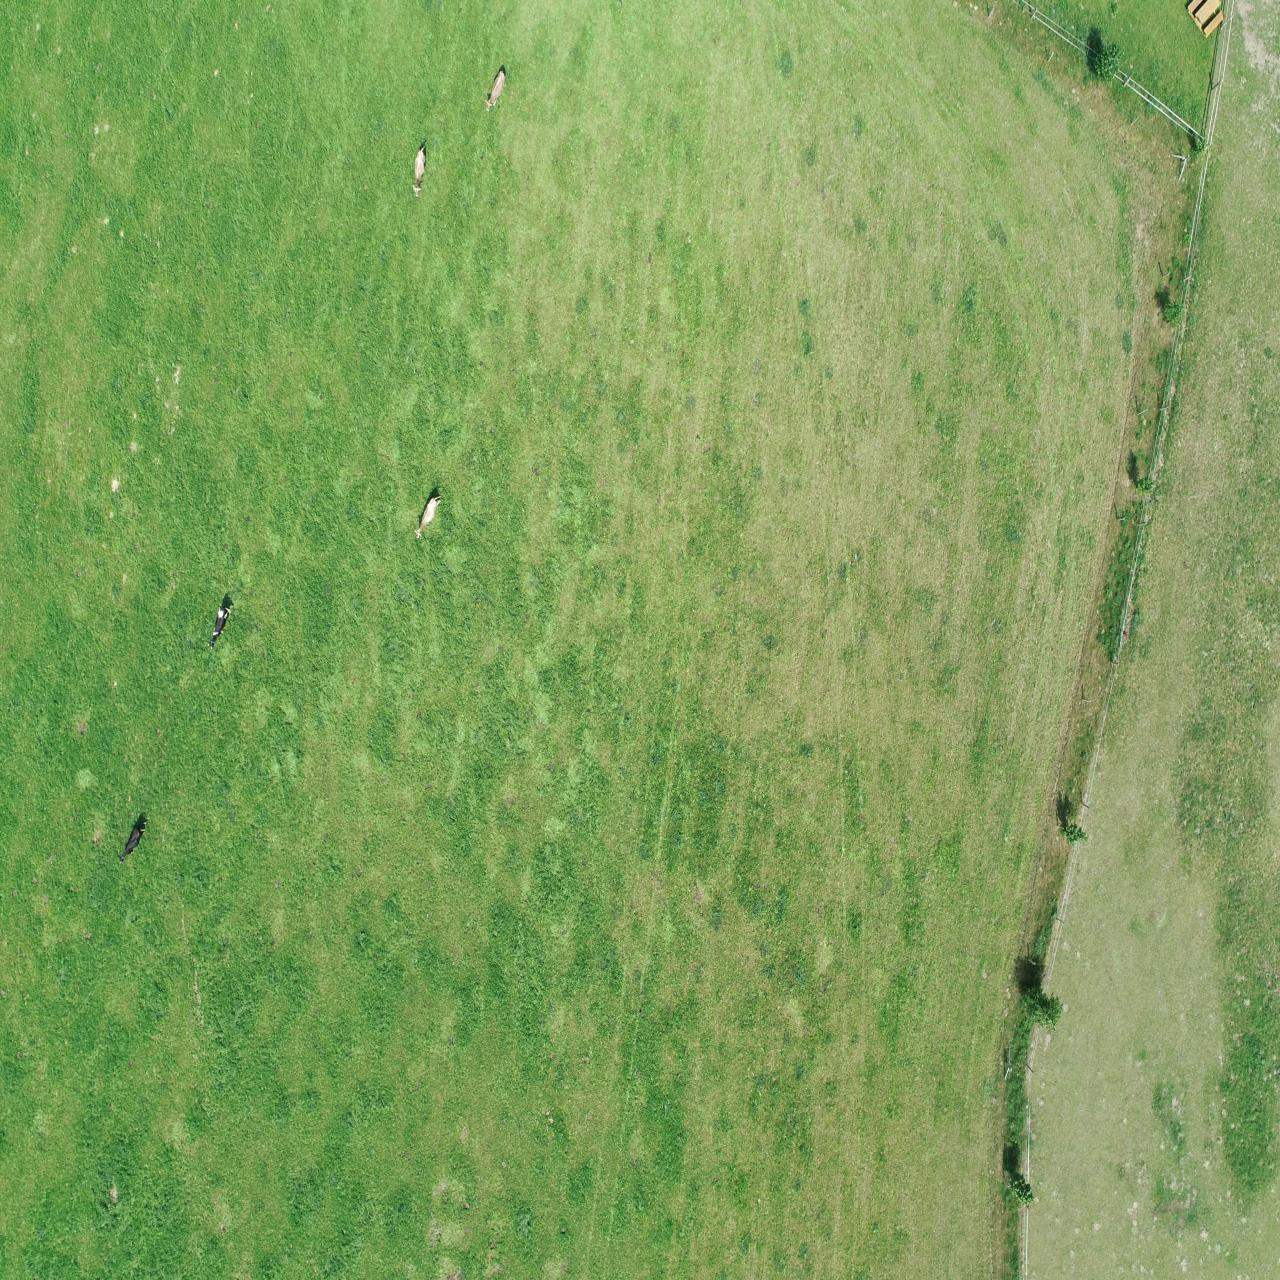cow: (407, 478, 455, 551), (203, 601, 236, 653), (116, 816, 150, 865), (482, 68, 512, 116), (408, 141, 429, 199)
